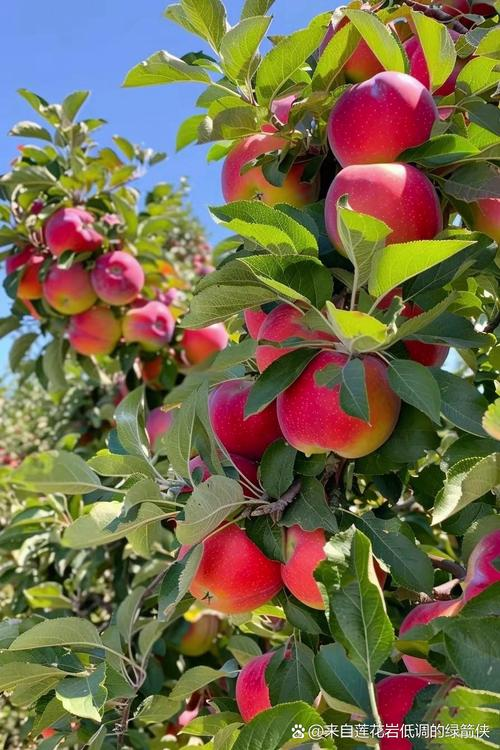ripe: (321, 155, 459, 270), (270, 344, 402, 452), (170, 511, 285, 628), (279, 507, 394, 620), (312, 69, 448, 163), (247, 298, 373, 381), (209, 377, 295, 459), (38, 199, 109, 260), (90, 245, 155, 302)
unripe: (222, 134, 327, 232), (34, 249, 99, 321)
